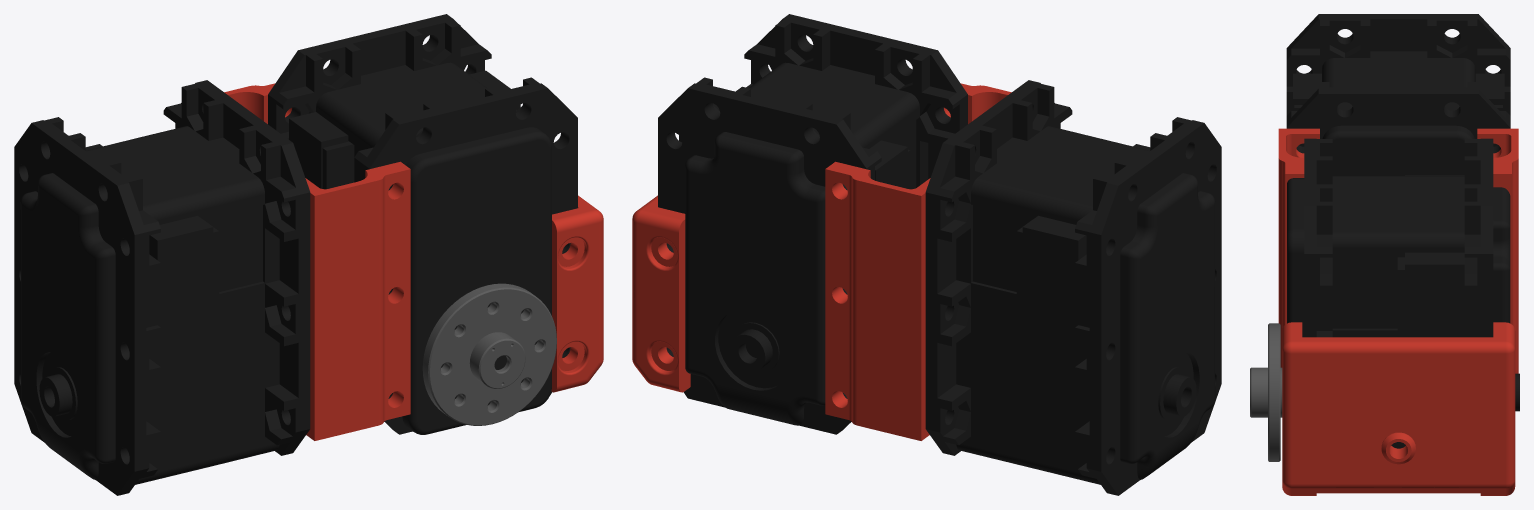
File: right_ankle.dae
The picture shows the model from 3 angles, left to right: view 1: azimuth 30°, elevation 25°; view 2: azimuth 150°, elevation 25°; view 3: azimuth 270°, elevation 25°; orthographic projection. The views are drawn at different scales.
Visible parts, largest first — view 1: Body1_Paint_-_Metallic_(Black) (×2), Body1_Paint_-_Metallic_(Red) (×3), Body1_Paint_-_Metallic_(Dark_Grey); view 2: Body1_Paint_-_Metallic_(Black) (×2), Body1_Paint_-_Metallic_(Red) (×3); view 3: Body1_Paint_-_Metallic_(Black) (×2), Body1_Paint_-_Metallic_(Red) (×3), Body1_Paint_-_Metallic_(Dark_Grey).
Boxes of the visible parts, box(x1,y1,x2,y2) form: Body1_Paint_-_Metallic_(Black) (×2): box(14, 14, 577, 495); Body1_Paint_-_Metallic_(Red) (×3): box(224, 83, 603, 440); Body1_Paint_-_Metallic_(Dark_Grey): box(422, 283, 556, 425); Body1_Paint_-_Metallic_(Black) (×2): box(658, 14, 1221, 495); Body1_Paint_-_Metallic_(Red) (×3): box(632, 83, 1011, 440); Body1_Paint_-_Metallic_(Black) (×2): box(1286, 14, 1519, 448); Body1_Paint_-_Metallic_(Red) (×3): box(1278, 128, 1518, 495); Body1_Paint_-_Metallic_(Dark_Grey): box(1250, 323, 1282, 461).
Size of the model in its own units: 0.0854 by 0.0428 by 0.0506.
